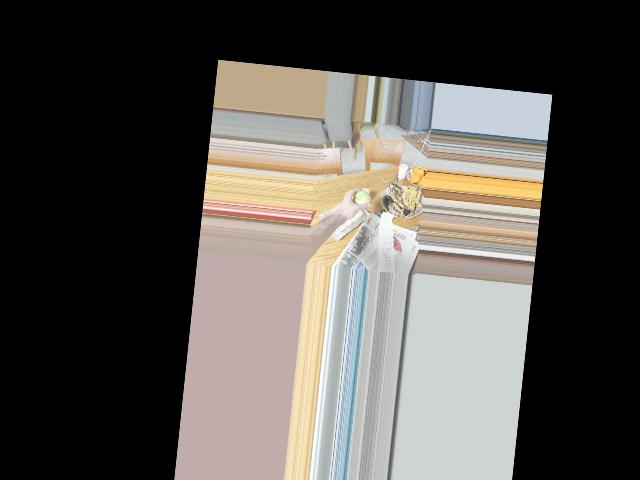apple: (348, 186, 373, 212)
